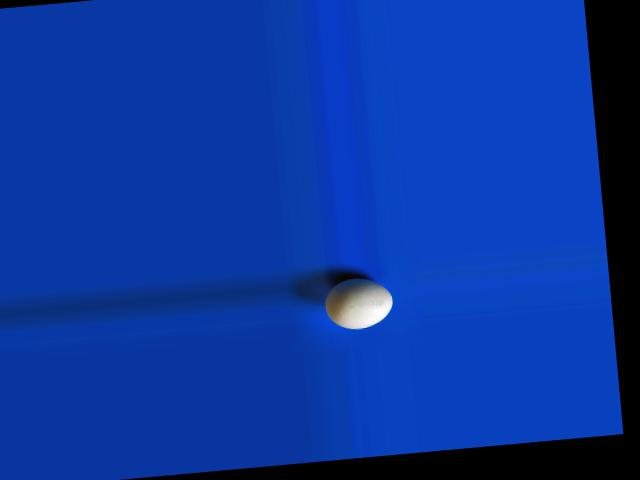egg: (322, 274, 395, 331)
